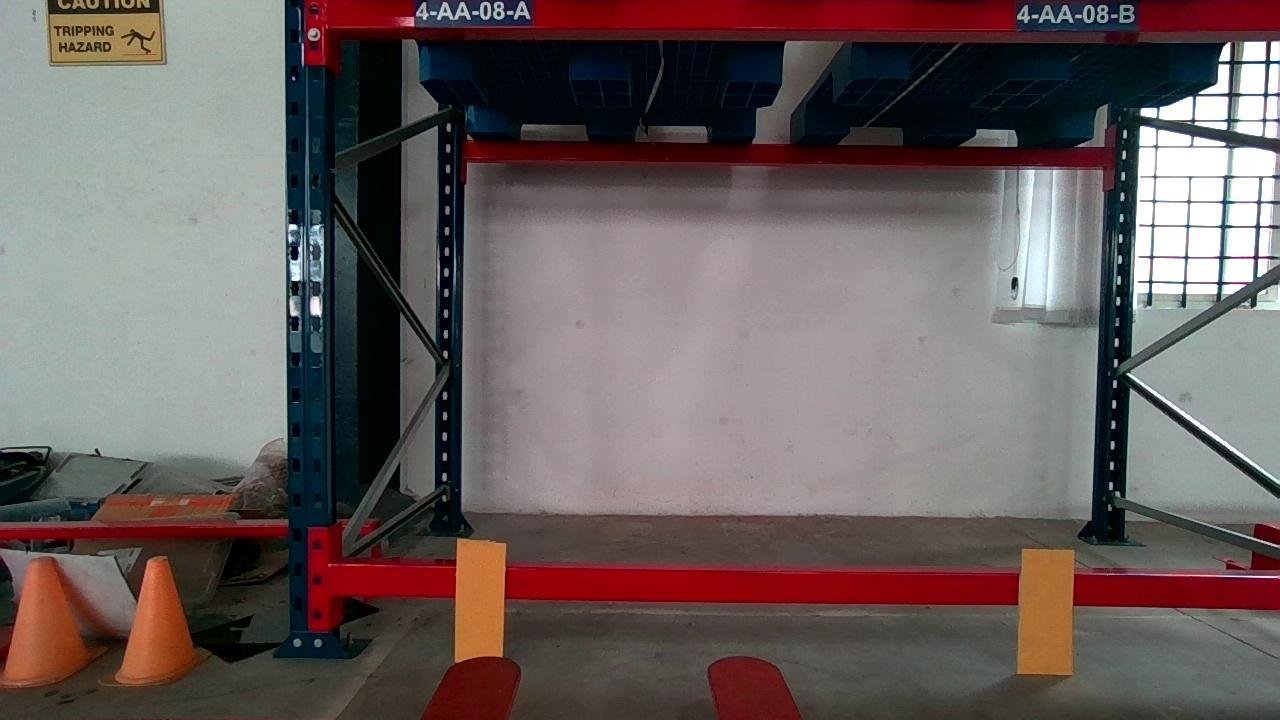h_rack: (329, 561, 1280, 616), (327, 0, 1280, 37)
orange_strip: (1019, 552, 1076, 678), (456, 537, 505, 660)
